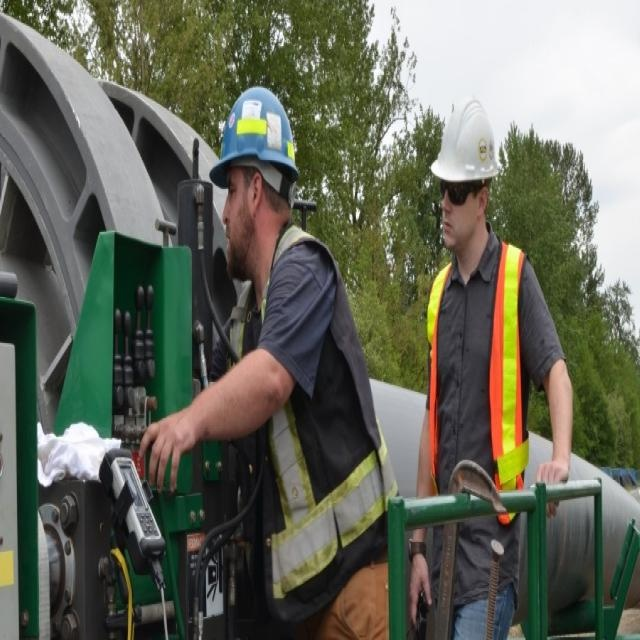Con_Chaleco: (250, 226, 386, 596), (425, 233, 530, 499)
